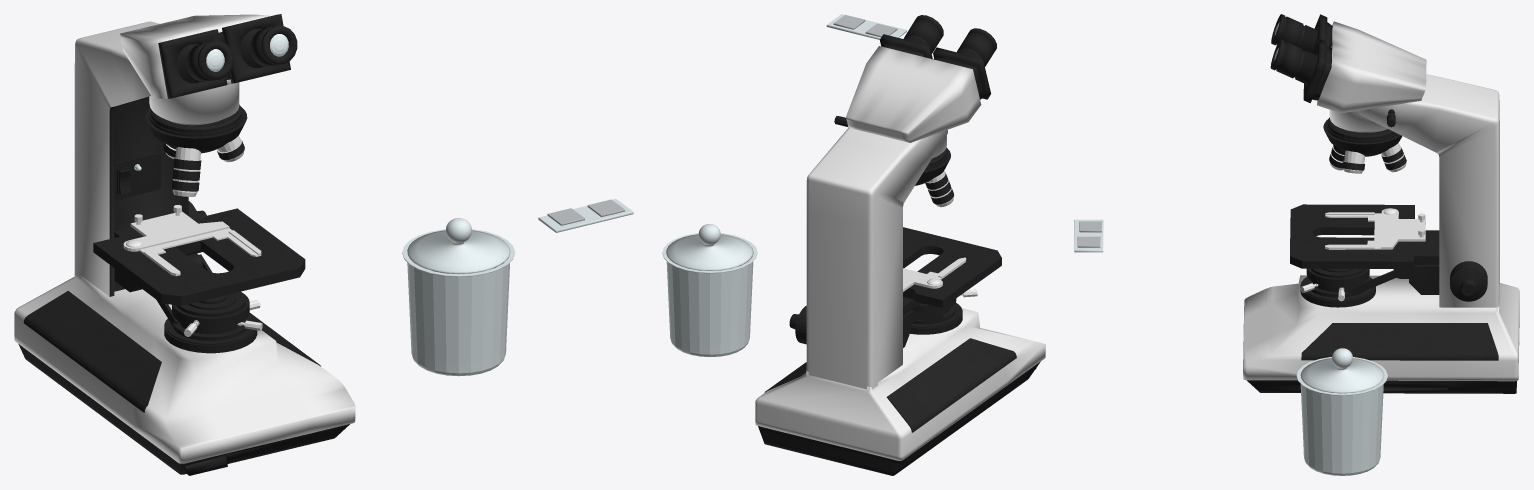
The model's file is 003-xianweijing—fujia.FBX.
The picture shows the model from 3 angles, left to right: view 1: azimuth 30°, elevation 25°; view 2: azimuth 150°, elevation 25°; view 3: azimuth 270°, elevation 25°; orthographic projection. The views are drawn at different scales.
Parts seen in each view (by area): view 1: desirefx.me_002, hx_jll_1000mlrlp_02, hx_jcyql_ldj001; view 2: desirefx.me_002, hx_jll_1000mlrlp_02, hx_jcyql_ldj001; view 3: desirefx.me_002, hx_jll_1000mlrlp_02, hx_jcyql_ldj001.
Part boxes in pixels (x1=…): desirefx.me_002: x1=14, y1=14, x2=355, y2=475; hx_jll_1000mlrlp_02: x1=402, y1=218, x2=515, y2=376; hx_jcyql_ldj001: x1=538, y1=198, x2=633, y2=232; desirefx.me_002: x1=755, y1=15, x2=1045, y2=475; hx_jll_1000mlrlp_02: x1=662, y1=224, x2=757, y2=356; hx_jcyql_ldj001: x1=826, y1=14, x2=906, y2=39; desirefx.me_002: x1=1243, y1=14, x2=1519, y2=393; hx_jll_1000mlrlp_02: x1=1296, y1=348, x2=1387, y2=475; hx_jcyql_ldj001: x1=1074, y1=219, x2=1103, y2=252.
Size of the model in its own units: 3.49 by 3.55 by 4.28.
Materials: 5 (4 with a texture image).
